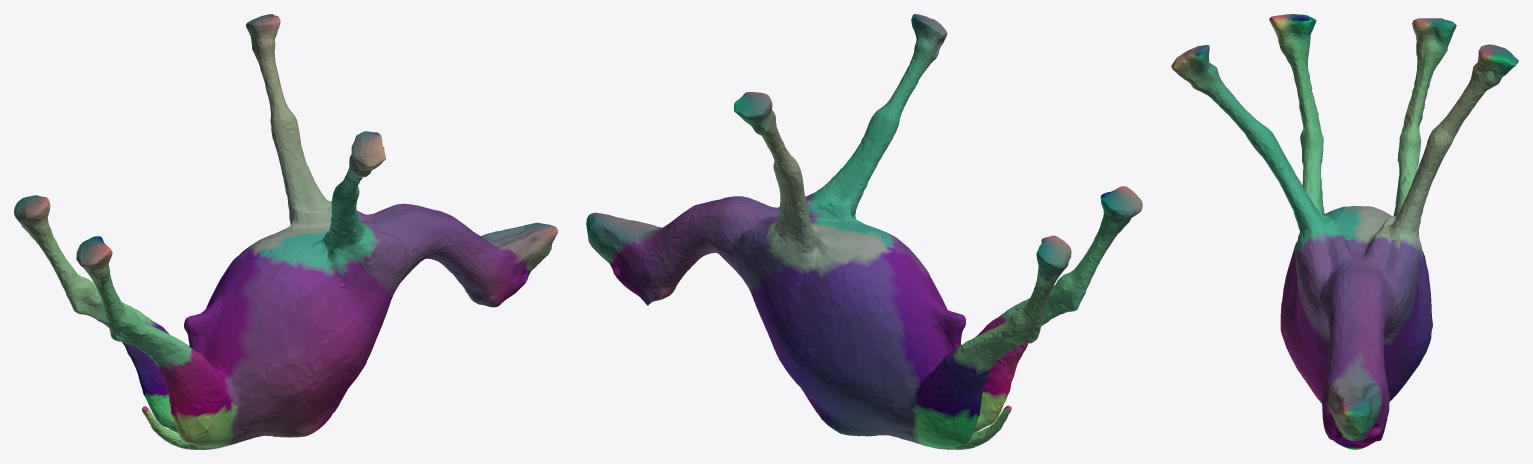
File: camel-4.off.obj
3 views of the same model, side by side, from view 1: azimuth 30°, elevation 25°; view 2: azimuth 150°, elevation 25°; view 3: azimuth 270°, elevation 25° (orthographic). The views are drawn at different scales.
Size of the model in its own units: 1.68 by 1.17 by 0.9016.
